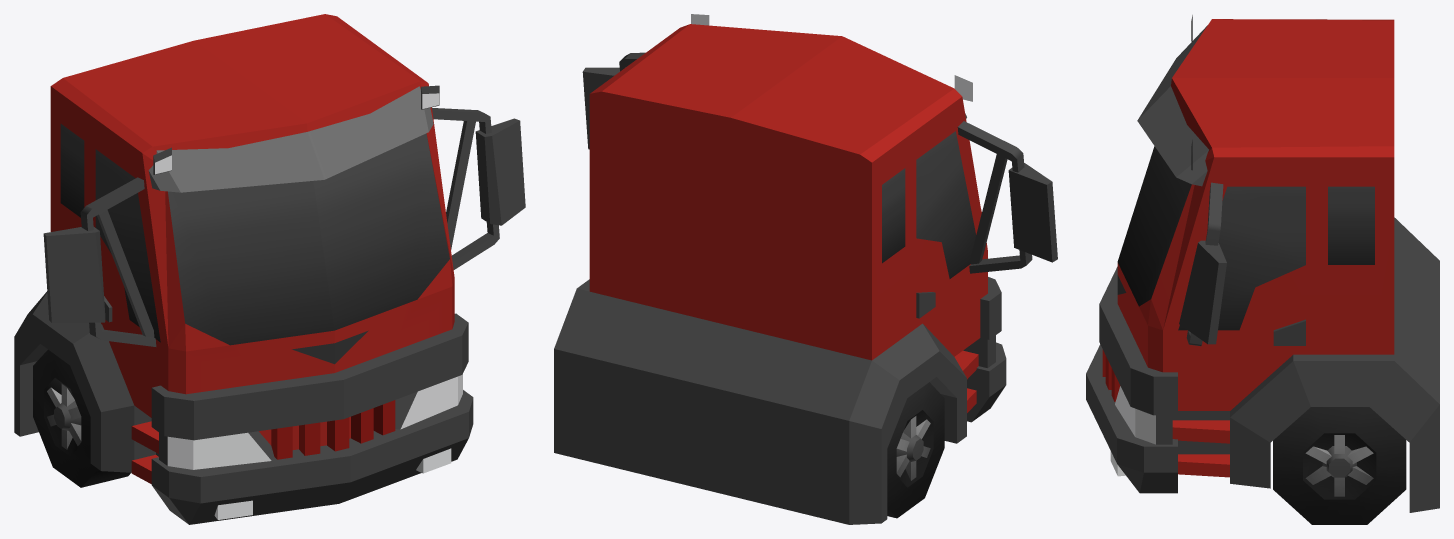
The model's file is head_F_2.fbx.
The picture shows the model from 3 angles, left to right: view 1: azimuth 30°, elevation 25°; view 2: azimuth 150°, elevation 25°; view 3: azimuth 270°, elevation 25°; orthographic projection.
Parts seen in each view (by area): view 1: head_F_2; view 2: head_F_2; view 3: head_F_2.
Part boxes in pixels (left/top/right/bottom): head_F_2: left=14, top=14, right=525, bottom=524; head_F_2: left=554, top=14, right=1057, bottom=524; head_F_2: left=1086, top=15, right=1439, bottom=524.
Bounding box in the file's own units: 19.16 × 14.63 × 12.6.
